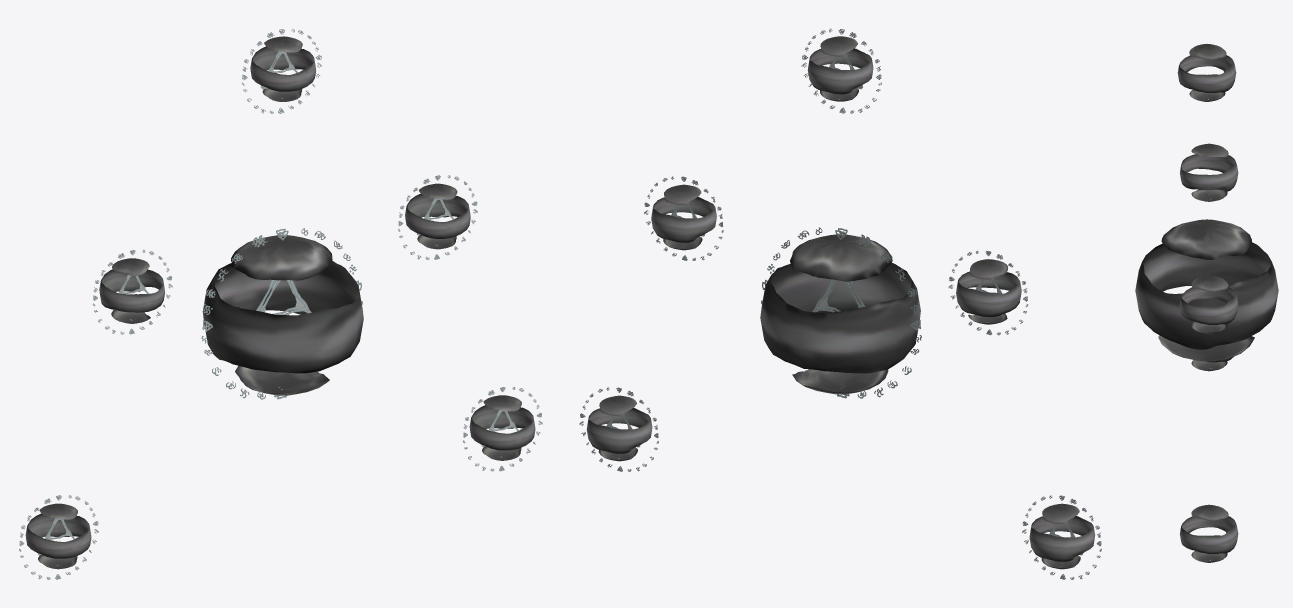
Rendered from runegate_air.FBX.
3 renders of one model, left to right at view 1: azimuth 30°, elevation 25°; view 2: azimuth 150°, elevation 25°; view 3: azimuth 270°, elevation 25°, orthographic. The views are drawn at different scales.
Visible parts, largest first — view 1: gate_air_core, gate_air_002, gate_air_005, gate_air_003, gate_air_004, gate_air_001, gate_air_circle_core, gate_air_circle_001; view 2: gate_air_core, gate_air_002, gate_air_003, gate_air_005, gate_air_004, gate_air_001, gate_air_circle_core; view 3: gate_air_core, gate_air_002, gate_air_001, gate_air_003, gate_air_005, gate_air_004.
Boxes of the visible parts, x1=… form: gate_air_core: x1=202, y1=235, x2=363, y2=395; gate_air_002: x1=99, y1=258, x2=164, y2=323; gate_air_005: x1=469, y1=395, x2=535, y2=460; gate_air_003: x1=405, y1=183, x2=470, y2=249; gate_air_004: x1=25, y1=503, x2=91, y2=569; gate_air_001: x1=250, y1=36, x2=316, y2=101; gate_air_circle_core: x1=201, y1=228, x2=362, y2=399; gate_air_circle_001: x1=241, y1=29, x2=321, y2=113; gate_air_core: x1=760, y1=234, x2=920, y2=394; gate_air_002: x1=956, y1=259, x2=1021, y2=324; gate_air_003: x1=651, y1=184, x2=716, y2=250; gate_air_005: x1=586, y1=395, x2=652, y2=461; gate_air_004: x1=1029, y1=503, x2=1094, y2=569; gate_air_001: x1=807, y1=36, x2=873, y2=101; gate_air_circle_core: x1=761, y1=227, x2=921, y2=398; gate_air_core: x1=1135, y1=219, x2=1278, y2=361; gate_air_002: x1=1180, y1=143, x2=1238, y2=201; gate_air_001: x1=1177, y1=44, x2=1236, y2=101; gate_air_003: x1=1179, y1=275, x2=1238, y2=333; gate_air_005: x1=1180, y1=504, x2=1238, y2=562; gate_air_004: x1=1191, y1=356, x2=1233, y2=371.
Size of the model in its own units: 1.39 by 1.26 by 0.3665.
